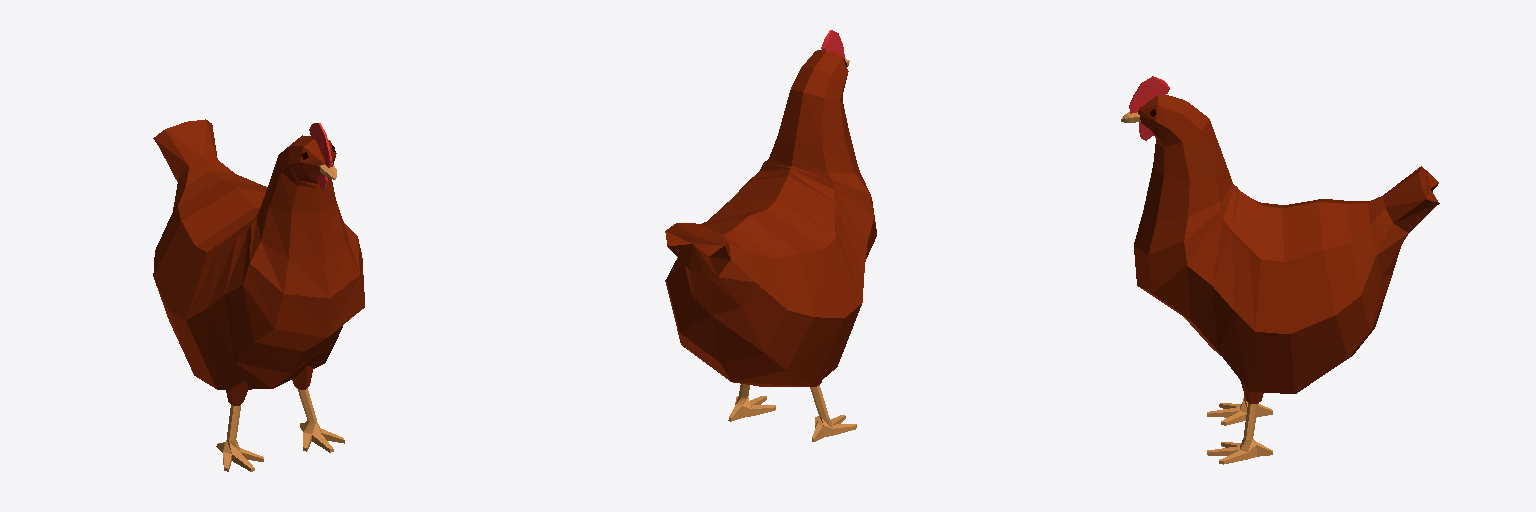
3 views of the same model, side by side, from view 1: azimuth 30°, elevation 25°; view 2: azimuth 150°, elevation 25°; view 3: azimuth 270°, elevation 25° (orthographic).
Visible parts, largest first — view 1: Geo_Hen; view 2: Geo_Hen; view 3: Geo_Hen.
Part boxes in pixels (x1,y1,x2,y2): Geo_Hen: (153,119,364,471); Geo_Hen: (665,30,876,441); Geo_Hen: (1121,76,1439,464).
Bounding box in the file's own units: 36.96 × 77.08 × 62.1.
Materials: 1 (1 with a texture image).